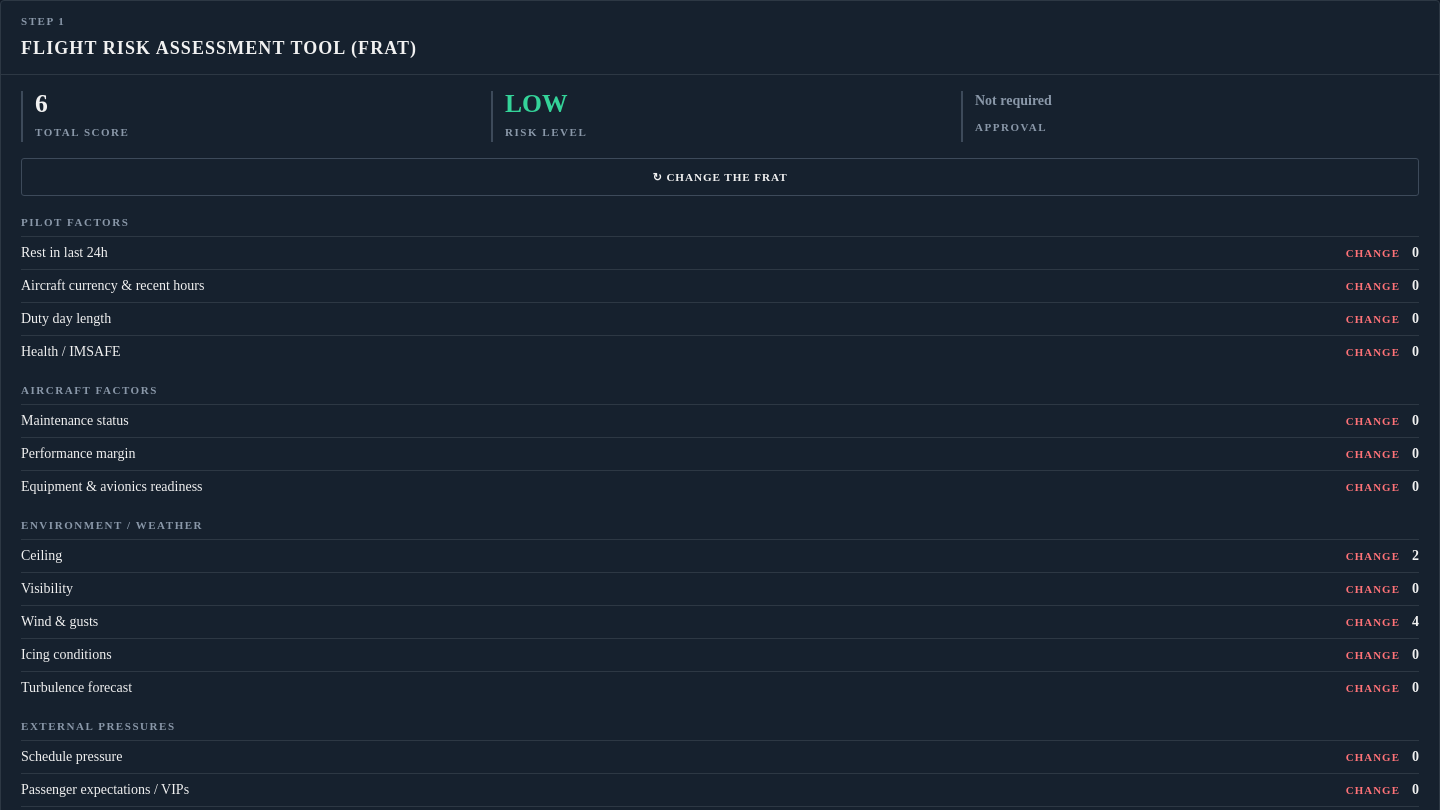
Test: the FRAT dispatch scored, in the pilot's preflight (#175) › puts a Change beside each score, opening the form at it (client, 18 Nov)
Click the button with aria-label "Change Wind & gusts": (1373,622) [1346, 612, 1400, 632]
(page scrolled)
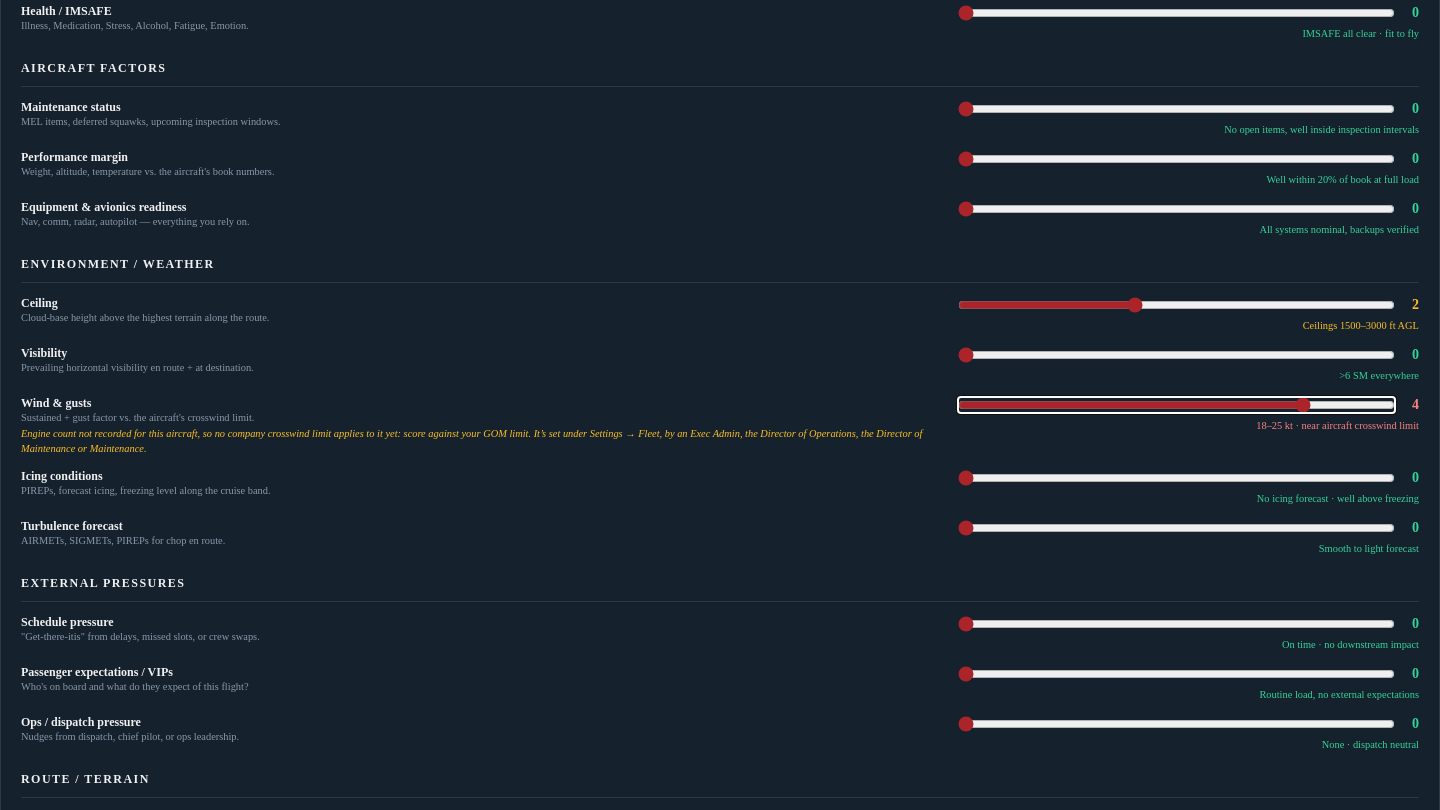
Now the slider labelled "Wind & gusts" holds "4", box [958, 397, 1395, 413]
